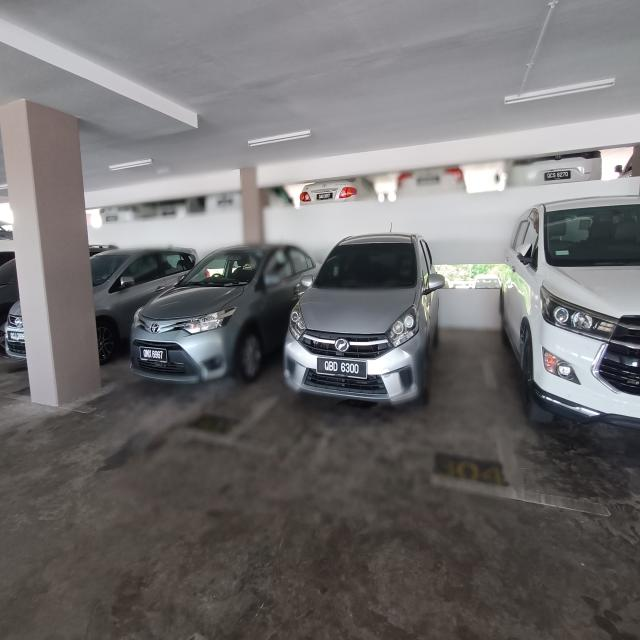PeroduaAxia: (284, 229, 450, 437)
ToyotaVios: (126, 236, 330, 406)
